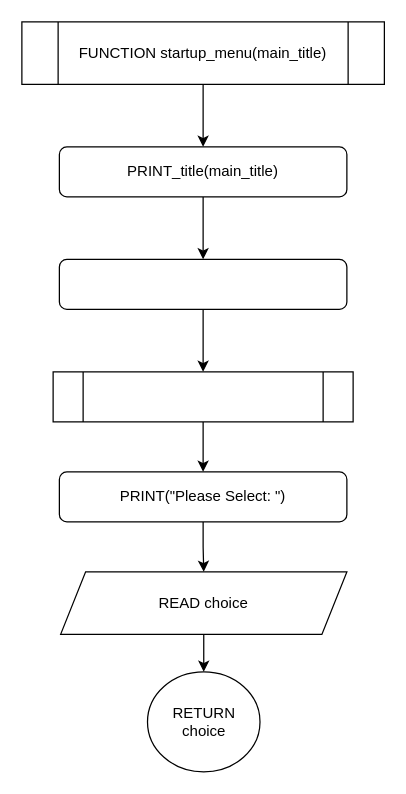
The diagram is 406 pixels wide and 794 high, and some of its shapes have lost their labels. Each missing label, with the centre of its shape:
DECLARE menu = ["Registered", "Unregistered","Exit"]: point (202, 283)
general_menu(menu): point (202, 396)
